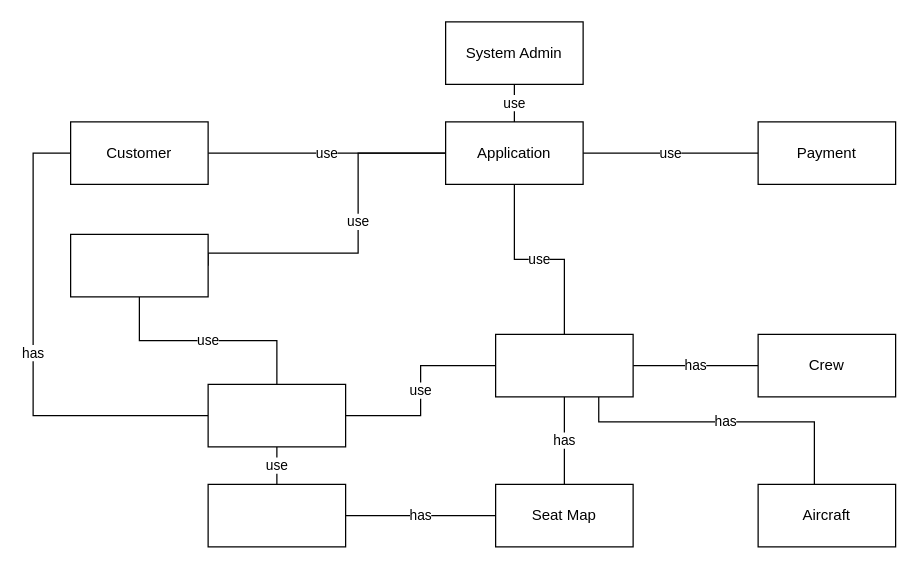
This 918x569 diagram has some shape labels left out. Here are the shapes that lost their labels. From the top down, the centre of each, then its label:
At pixel 138 265: "Airline Staff".
At pixel 563 365: "Flight".
At pixel 276 415: "Ticket".
At pixel 276 515: "Seat".
